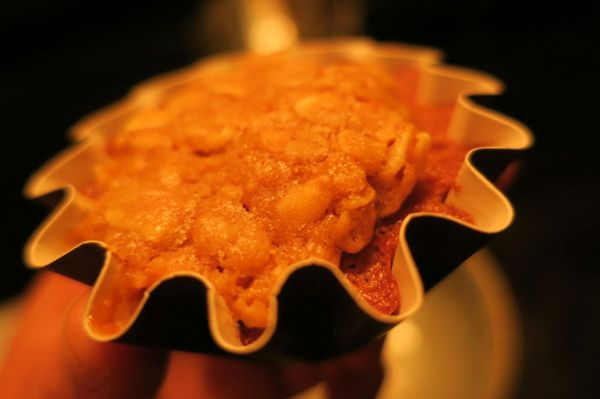sushi: (20, 47, 438, 362)
